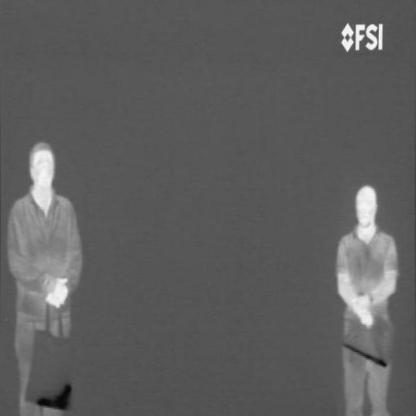weapon: (36, 379, 74, 411)
